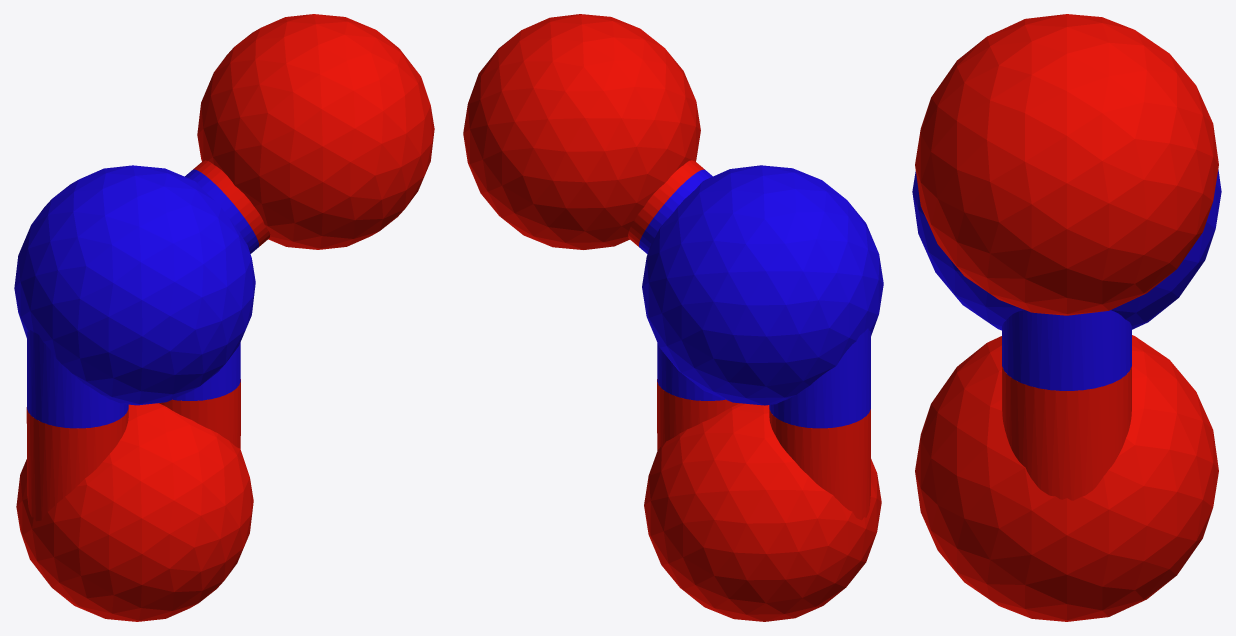
3 views of the same model, side by side, from view 1: azimuth 30°, elevation 25°; view 2: azimuth 150°, elevation 25°; view 3: azimuth 270°, elevation 25° (orthographic). The views are drawn at different scales.
Parts seen in each view (by area): view 1: Shape_IndexedFaceSet, Shape_IndexedFaceSet.002, Shape_IndexedFaceSet.001, Shape_IndexedFaceSet.013, Shape_IndexedFaceSet.011, Shape_IndexedFaceSet.009, Shape_IndexedFaceSet.005, Shape_IndexedFaceSet.007, Shape_IndexedFaceSet.003; view 2: Shape_IndexedFaceSet, Shape_IndexedFaceSet.002, Shape_IndexedFaceSet.001, Shape_IndexedFaceSet.013, Shape_IndexedFaceSet.011, Shape_IndexedFaceSet.009, Shape_IndexedFaceSet.005, Shape_IndexedFaceSet.007, Shape_IndexedFaceSet.003; view 3: Shape_IndexedFaceSet.002, Shape_IndexedFaceSet.001, Shape_IndexedFaceSet.009, Shape_IndexedFaceSet.007, Shape_IndexedFaceSet.
Boxes of the visible parts, x1=… form: Shape_IndexedFaceSet: x1=14, y1=165, x2=255, y2=405; Shape_IndexedFaceSet.002: x1=197, y1=14, x2=434, y2=249; Shape_IndexedFaceSet.001: x1=16, y1=403, x2=253, y2=621; Shape_IndexedFaceSet.013: x1=26, y1=407, x2=128, y2=521; Shape_IndexedFaceSet.011: x1=27, y1=330, x2=128, y2=428; Shape_IndexedFaceSet.009: x1=159, y1=379, x2=240, y2=448; Shape_IndexedFaceSet.005: x1=193, y1=160, x2=270, y2=247; Shape_IndexedFaceSet.007: x1=173, y1=342, x2=240, y2=400; Shape_IndexedFaceSet.003: x1=185, y1=169, x2=258, y2=253; Shape_IndexedFaceSet: x1=642, y1=165, x2=883, y2=405; Shape_IndexedFaceSet.002: x1=463, y1=14, x2=700, y2=249; Shape_IndexedFaceSet.001: x1=644, y1=403, x2=881, y2=621; Shape_IndexedFaceSet.013: x1=769, y1=409, x2=870, y2=520; Shape_IndexedFaceSet.011: x1=769, y1=328, x2=870, y2=428; Shape_IndexedFaceSet.009: x1=657, y1=379, x2=739, y2=450; Shape_IndexedFaceSet.005: x1=628, y1=160, x2=704, y2=247; Shape_IndexedFaceSet.007: x1=657, y1=343, x2=724, y2=400; Shape_IndexedFaceSet.003: x1=639, y1=169, x2=712, y2=253; Shape_IndexedFaceSet.002: x1=915, y1=14, x2=1218, y2=315; Shape_IndexedFaceSet.001: x1=915, y1=335, x2=1218, y2=621; Shape_IndexedFaceSet.009: x1=1002, y1=366, x2=1131, y2=500; Shape_IndexedFaceSet.007: x1=1002, y1=310, x2=1131, y2=390; Shape_IndexedFaceSet: x1=912, y1=169, x2=1221, y2=330.
Bounding box in the file's own units: 0.7215 × 0.964 × 0.389.
